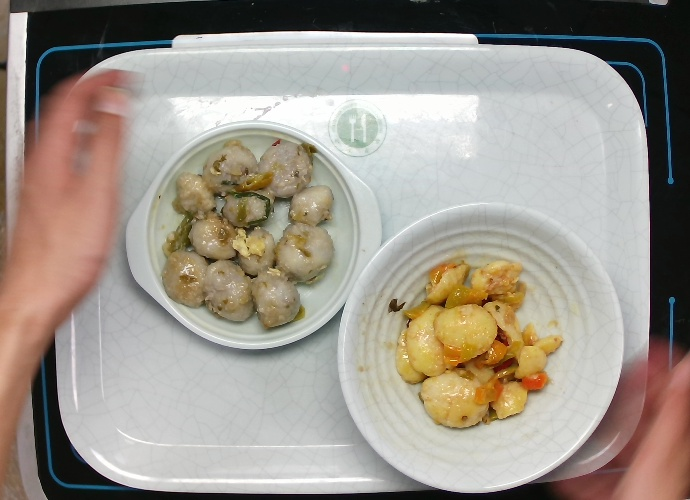JYsf-Shuang_Er_Pan: (123, 120, 383, 351)
JYsf-Xiao_Tang_Wan: (334, 197, 627, 497)
